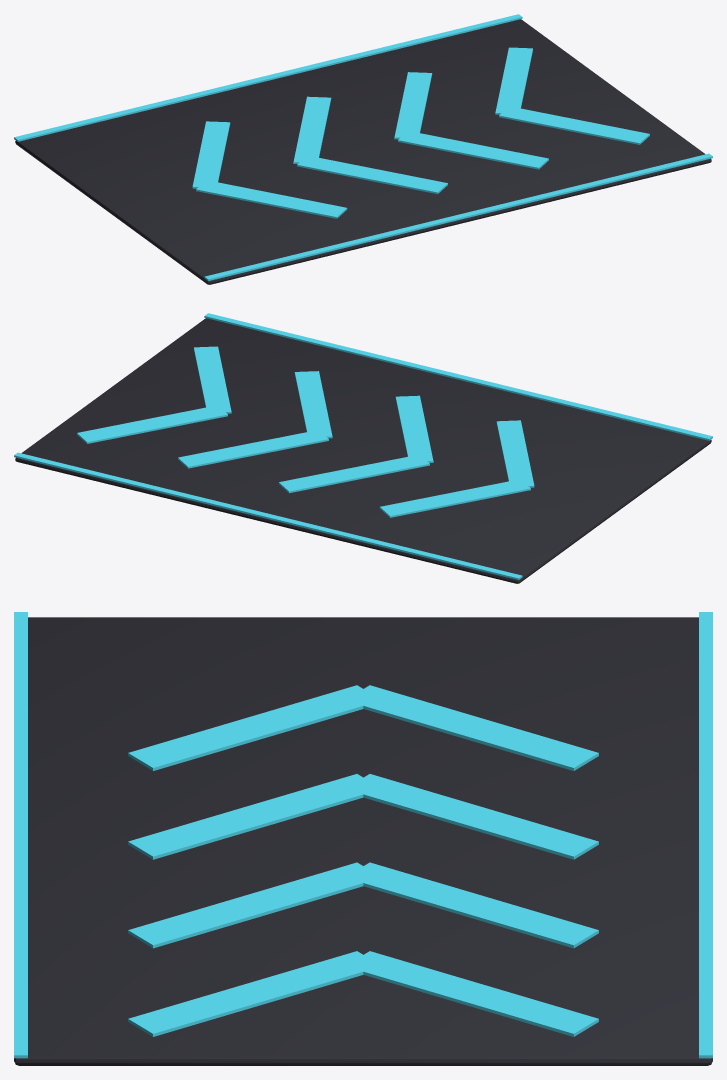
File: SM_BoostPad.fbx
3 views of the same model, one above another, from view 1: azimuth 30°, elevation 25°; view 2: azimuth 150°, elevation 25°; view 3: azimuth 270°, elevation 25° (orthographic). The views are drawn at different scales.
Parts seen in each view (by area): view 1: SM_BoostPad; view 2: SM_BoostPad; view 3: SM_BoostPad.
Boxes of the visible parts, x1,y1,x2,y2 form: SM_BoostPad: (14,14,712,284); SM_BoostPad: (14,313,712,583); SM_BoostPad: (14,612,712,1065).
Bounding box in the file's own units: 600 × 8 × 400.
